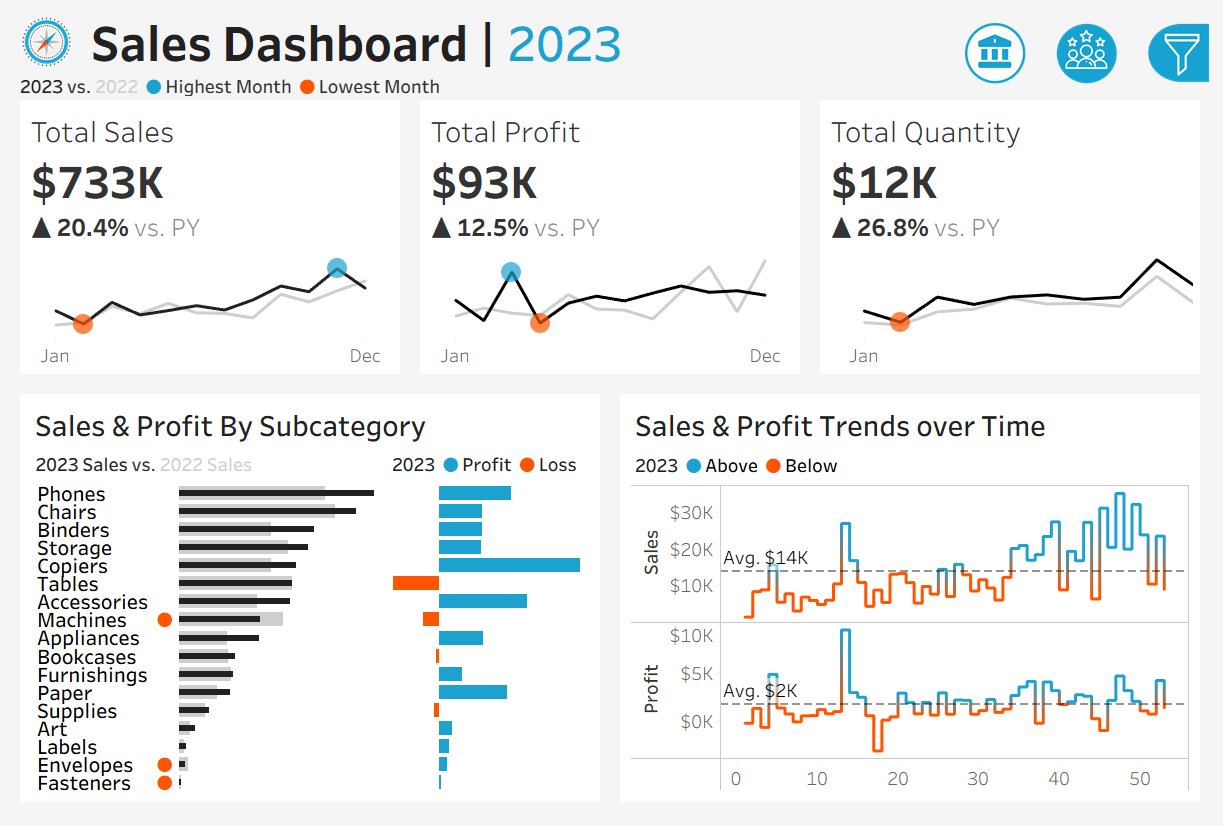

The page's visual inventory and layout, read from the dashboard file:
{"tool":"tableau","page":{"name":"Sales Dashboard","canvas":[1200,800],"ordinal":1},"visuals":[{"type":"image","param":"C:/Users/jenny/Desktop/自己練習/Tablueau/sales-dashboard-project/images/Icon - Logo.","box":[0,0,88,80]},{"type":"text","box":[88,0,1112,80]},{"type":"dashboard-object","box":[848,19,128,66]},{"type":"dashboard-object","box":[976,19,127,66]},{"type":"worksheet","title":"Legend KPIs","mark":"Automatic","box":[0,80,1200,42]},{"type":"worksheet","title":"KPI Sales","mark":"Automatic","rows":["Calculation_312718704847384580"],"cols":["Order Date"],"box":[0,122,400,260]},{"type":"worksheet","title":"KPI Profits","mark":"Automatic","rows":["Calculation_312718704862375954"],"cols":["Order Date"],"box":[400,122,400,260]},{"type":"worksheet","title":"KPI Quantity","mark":"Automatic","rows":["Calculation_312718704902037531"],"cols":["Order Date"],"box":[800,122,400,260]},{"type":"text","box":[17,399,566,47]},{"type":"text","box":[617,399,566,47]},{"type":"worksheet","title":"Legend Subcategory","mark":"Automatic","box":[17,446,378,46]},{"type":"text","box":[395,446,188,46]},{"type":"text","box":[617,446,566,33]},{"type":"worksheet","title":"Weekly Trends","mark":"Automatic","rows":["Calculation_312718704841388032","Calculation_312718704858587148"],"cols":["Order Date"],"box":[617,479,566,304]},{"type":"worksheet","title":"Subcategory comparison","mark":"Bar","rows":["Sub-Category","Calculation_312718704908202012"],"cols":["Calculation_312718704841981953","Calculation_312718704841388032","Calculation_312718704858587148"],"box":[17,492,566,290.9]}]}

Visuals, with their boxes in screenshot pixels (x1, y1, x2, y2), scaled from the page's 1200x800 canvas onto the 1223x826 screenshot:
image: x1=0, y1=0, x2=90, y2=83
text: x1=90, y1=0, x2=1222, y2=83
dashboard-object: x1=864, y1=20, x2=995, y2=88
dashboard-object: x1=995, y1=20, x2=1124, y2=88
"Legend KPIs" worksheet: x1=0, y1=83, x2=1222, y2=126
"KPI Sales" worksheet: x1=0, y1=126, x2=408, y2=394
"KPI Profits" worksheet: x1=408, y1=126, x2=815, y2=394
"KPI Quantity" worksheet: x1=815, y1=126, x2=1222, y2=394
text: x1=17, y1=412, x2=594, y2=460
text: x1=629, y1=412, x2=1206, y2=460
"Legend Subcategory" worksheet: x1=17, y1=460, x2=403, y2=508
text: x1=403, y1=460, x2=594, y2=508
text: x1=629, y1=460, x2=1206, y2=495
"Weekly Trends" worksheet: x1=629, y1=495, x2=1206, y2=808
"Subcategory comparison" worksheet (Bar marks): x1=17, y1=508, x2=594, y2=808
